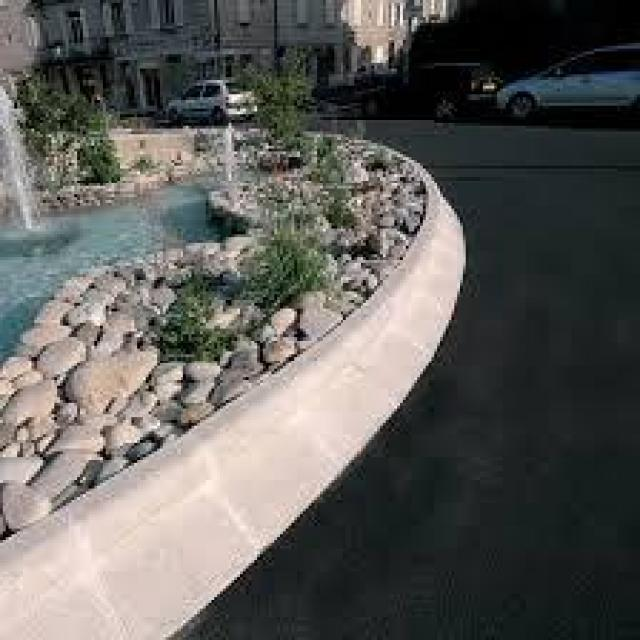curb: (1, 204, 466, 640)
